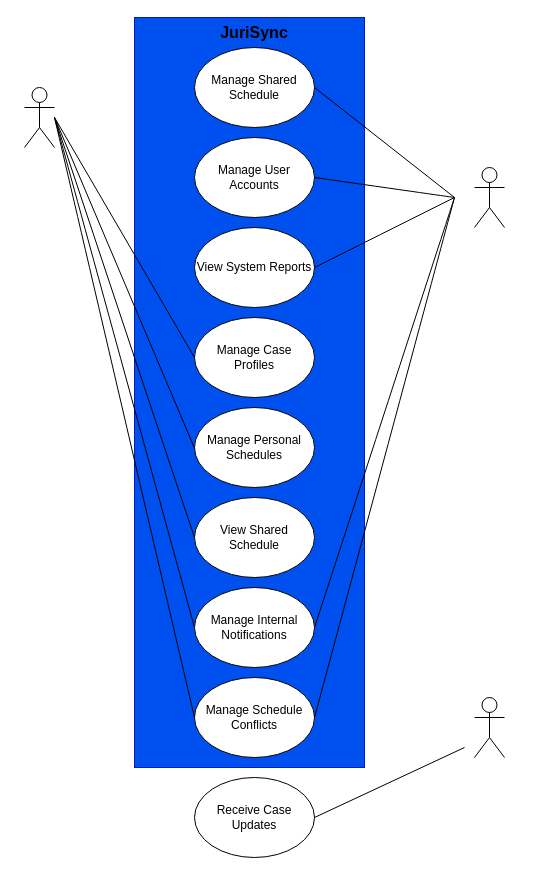
The diagram is 542 pixels wide and 875 high, and some of its shapes have lost their labels. The centre of each missing label's shape, as x and y in pixels:
"Administrator" belongs at pixel 489 197.
"Clients" belongs at pixel 489 727.
"Lawyers" belongs at pixel 39 117.
